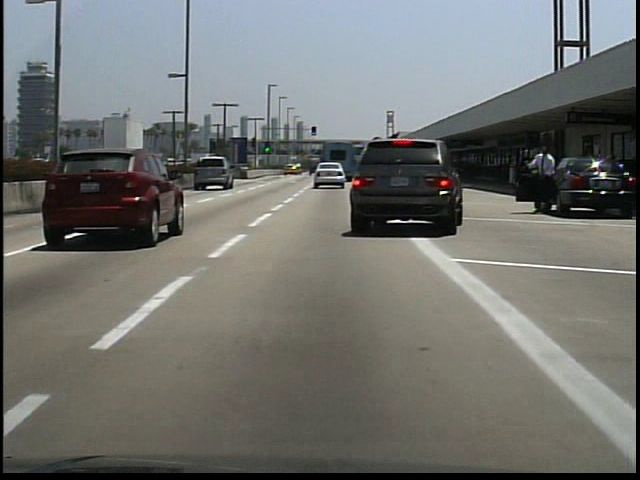person: (522, 142, 557, 218)
